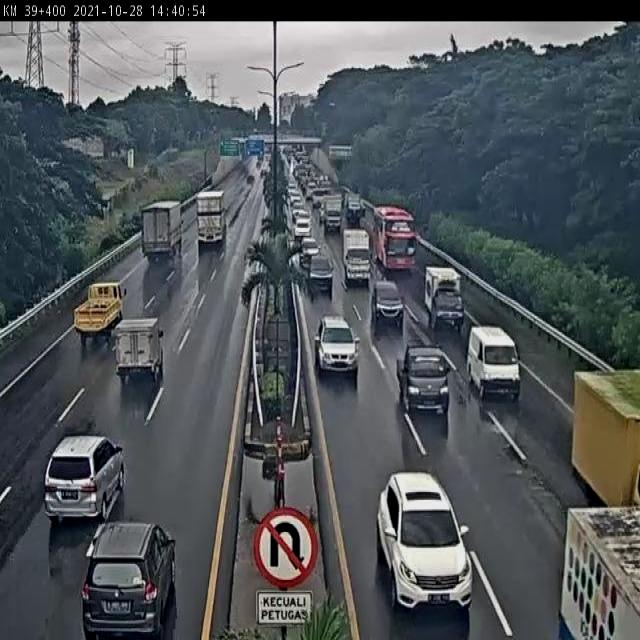Bus: (372, 204, 417, 273)
Car: (377, 470, 474, 619), (80, 519, 175, 640), (45, 432, 126, 522), (312, 315, 361, 378), (371, 281, 404, 330), (306, 254, 334, 296), (297, 238, 322, 262), (294, 217, 312, 238)
Truck: (557, 504, 640, 640), (571, 362, 640, 507), (395, 343, 451, 416), (74, 279, 128, 348), (114, 317, 166, 385), (140, 197, 183, 260), (424, 263, 463, 328), (195, 190, 229, 251), (343, 230, 371, 286), (323, 196, 343, 233)
Van: (465, 324, 522, 402)
